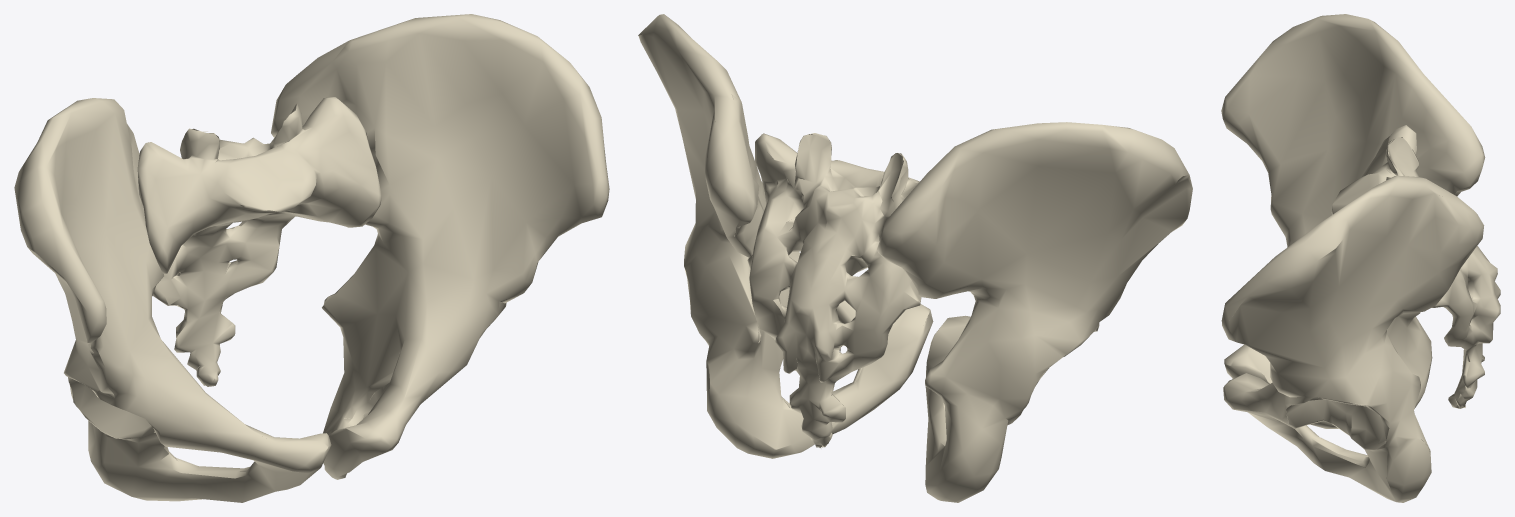
Rendered from pelvis-mobile.glb.
3 views of the same model, side by side, from view 1: azimuth 30°, elevation 25°; view 2: azimuth 150°, elevation 25°; view 3: azimuth 270°, elevation 25° (orthographic). The views are drawn at different scales.
Parts seen in each view (by area): view 1: bp3d.FMA16585, bp3d.FMA16202; view 2: bp3d.FMA16585, bp3d.FMA16202; view 3: bp3d.FMA16585, bp3d.FMA16202.
Boxes of the visible parts, x1,y1,x2,y2 form: bp3d.FMA16585: (14,14,609,502); bp3d.FMA16202: (137,97,381,386); bp3d.FMA16585: (638,14,1192,502); bp3d.FMA16202: (747,133,921,448); bp3d.FMA16585: (1221,14,1485,502); bp3d.FMA16202: (1331,125,1500,408).
Bounding box in the file's own units: 0.2895 × 0.2065 × 0.1466.
